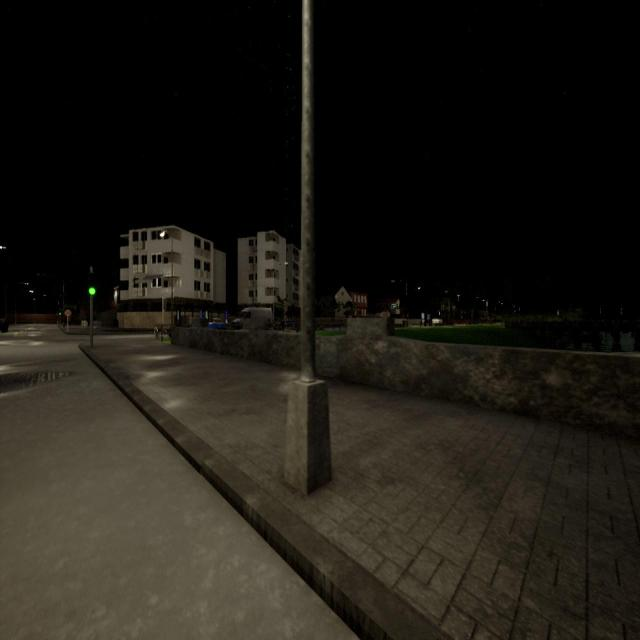Traffic_Signs: (64, 309, 72, 317)
Vehicle: (233, 306, 273, 329), (207, 317, 226, 329), (0, 318, 10, 333)
traffic_light: (88, 272, 97, 297), (59, 310, 61, 316), (56, 313, 58, 318)
